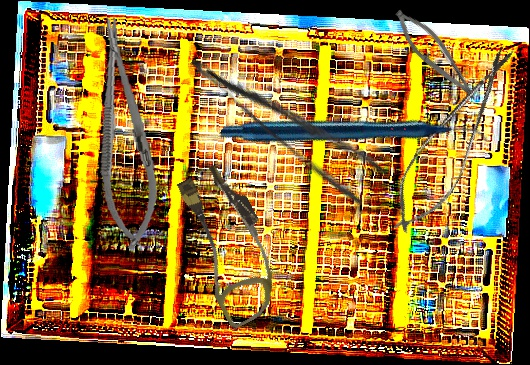Cannula: (160, 158, 299, 331)
Dressing Forceps: (186, 28, 389, 210)
Handpiece: (217, 8, 490, 265)
Micro Scissor: (377, 34, 529, 245), (384, 2, 490, 108)
Needle Holder: (84, 13, 165, 253)
